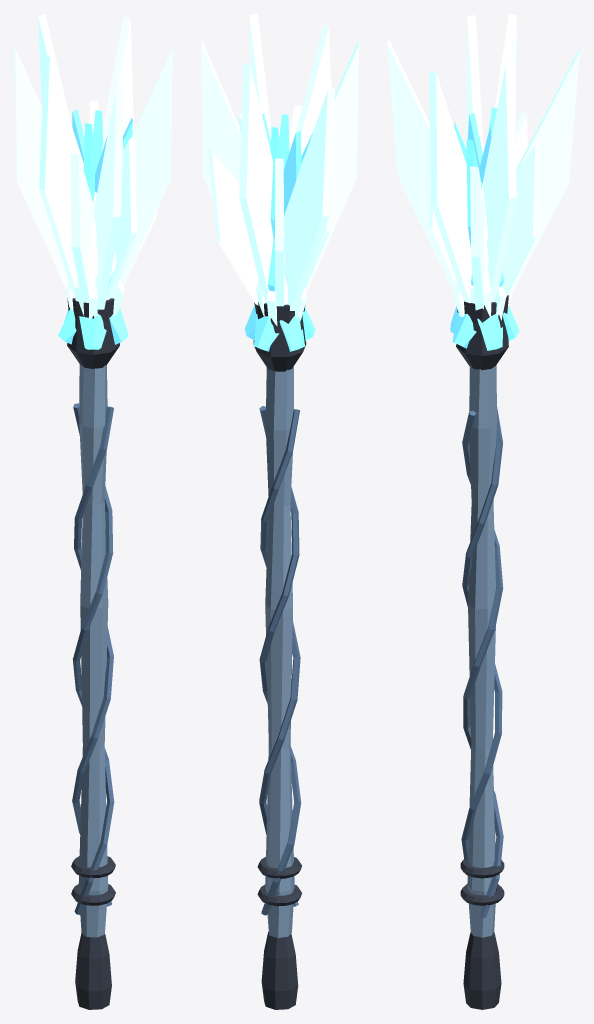
Rendered from staff_frostburst.glb.
3 views of the same model, side by side, from view 1: azimuth 30°, elevation 25°; view 2: azimuth 210°, elevation 25°; view 3: azimuth 270°, elevation 25° (orthographic).
Visible parts, largest first — view 1: Fb_Shaft, Fb_Flame0, Fb_Flame4, Fb_Flame10, Fb_Flame2, Fb_Twist1, Fb_Twist0, Fb_Flame1, Fb_Butt, Fb_Flame3, Fb_Flame6, Fb_Neck (+11 smaller); view 2: Fb_Shaft, Fb_Flame8, Fb_Flame6, Fb_Flame10, Fb_Flame5, Fb_Flame4, Fb_Twist0, Fb_Twist1, Fb_Butt, Fb_Flame0, Fb_Neck, Fb_Flame2 (+9 smaller); view 3: Fb_Shaft, Fb_Flame4, Fb_Flame2, Fb_Flame6, Fb_Flame8, Fb_Flame7, Fb_Twist1, Fb_Twist0, Fb_Butt, Fb_Flame0, Fb_Flame5, Fb_Neck (+9 smaller).
Boxes of the visible parts, bbox=[...] form: Fb_Shaft: bbox=[78, 364, 108, 937]; Fb_Flame0: bbox=[39, 54, 83, 297]; Fb_Flame4: bbox=[120, 47, 172, 283]; Fb_Flame10: bbox=[14, 47, 69, 288]; Fb_Flame2: bbox=[93, 89, 124, 309]; Fb_Twist1: bbox=[72, 403, 114, 914]; Fb_Twist0: bbox=[72, 406, 113, 906]; Fb_Flame1: bbox=[70, 153, 93, 302]; Fb_Butt: bbox=[75, 933, 111, 1009]; Fb_Flame3: bbox=[107, 137, 136, 299]; Fb_Flame6: bbox=[74, 16, 133, 316]; Fb_Neck: bbox=[67, 298, 119, 368]; Fb_Shaft: bbox=[265, 366, 294, 937]; Fb_Flame8: bbox=[284, 88, 334, 310]; Fb_Flame6: bbox=[239, 63, 273, 303]; Fb_Flame10: bbox=[305, 42, 358, 293]; Fb_Flame5: bbox=[208, 148, 258, 305]; Fb_Flame4: bbox=[201, 41, 240, 198]; Fb_Twist0: bbox=[259, 406, 301, 915]; Fb_Twist1: bbox=[259, 409, 300, 906]; Fb_Butt: bbox=[261, 931, 298, 1009]; Fb_Flame0: bbox=[256, 25, 331, 316]; Fb_Neck: bbox=[253, 302, 306, 371]; Fb_Flame2: bbox=[249, 14, 288, 304]; Fb_Shaft: bbox=[467, 365, 496, 937]; Fb_Flame4: bbox=[429, 71, 471, 302]; Fb_Flame2: bbox=[387, 40, 455, 291]; Fb_Flame6: bbox=[482, 63, 516, 302]; Fb_Flame8: bbox=[508, 48, 579, 298]; Fb_Flame7: bbox=[502, 142, 539, 296]; Fb_Twist1: bbox=[461, 407, 502, 860]; Fb_Twist0: bbox=[462, 411, 503, 917]; Fb_Butt: bbox=[463, 932, 501, 1009]; Fb_Flame0: bbox=[466, 15, 491, 316]; Fb_Flame5: bbox=[470, 166, 484, 310]; Fb_Neck: bbox=[456, 295, 508, 370].
Bounding box in the file's own units: 0.3505 × 2.46 × 0.4456.
